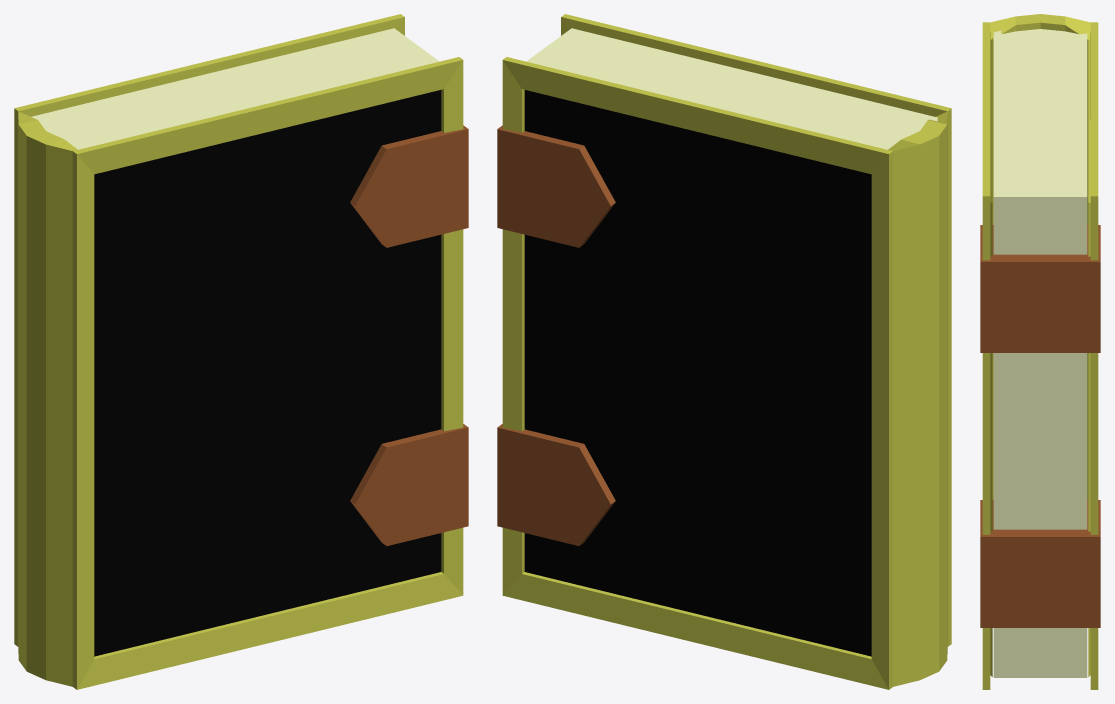
File: Book_02.fbx
The picture shows the model from 3 angles, left to right: view 1: azimuth 30°, elevation 25°; view 2: azimuth 150°, elevation 25°; view 3: azimuth 270°, elevation 25°; orthographic projection. The views are drawn at different scales.
Visible parts, largest first — view 1: Book_02; view 2: Book_02; view 3: Book_02.
Boxes of the visible parts, box(x1,y1,x2,y2) form: Book_02: box(14, 14, 468, 689); Book_02: box(497, 14, 951, 689); Book_02: box(980, 14, 1100, 689).
Bounding box in the file's own units: 868 × 1086 × 240.
